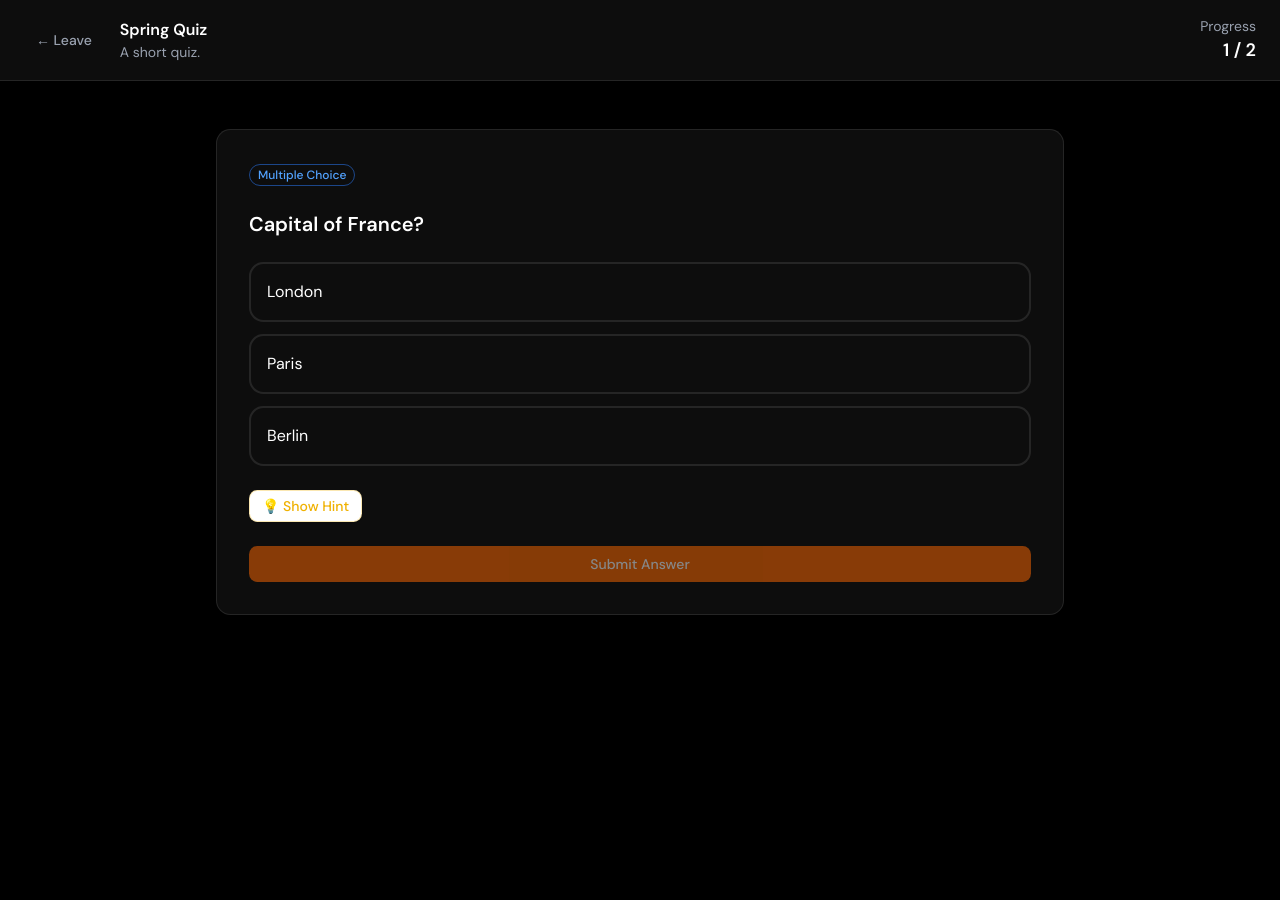
Test: PracticePage (ASK-192) › walks the full happy path: start -> submit -> complete
expect the heading "Capital of France?" is shown: met, box [249,211,424,237]
expect the text "1 / 2" is shown: met, box [1223,38,1256,62]
Click the button "Paris". click: (285, 364)
box: [249,334,1031,394]
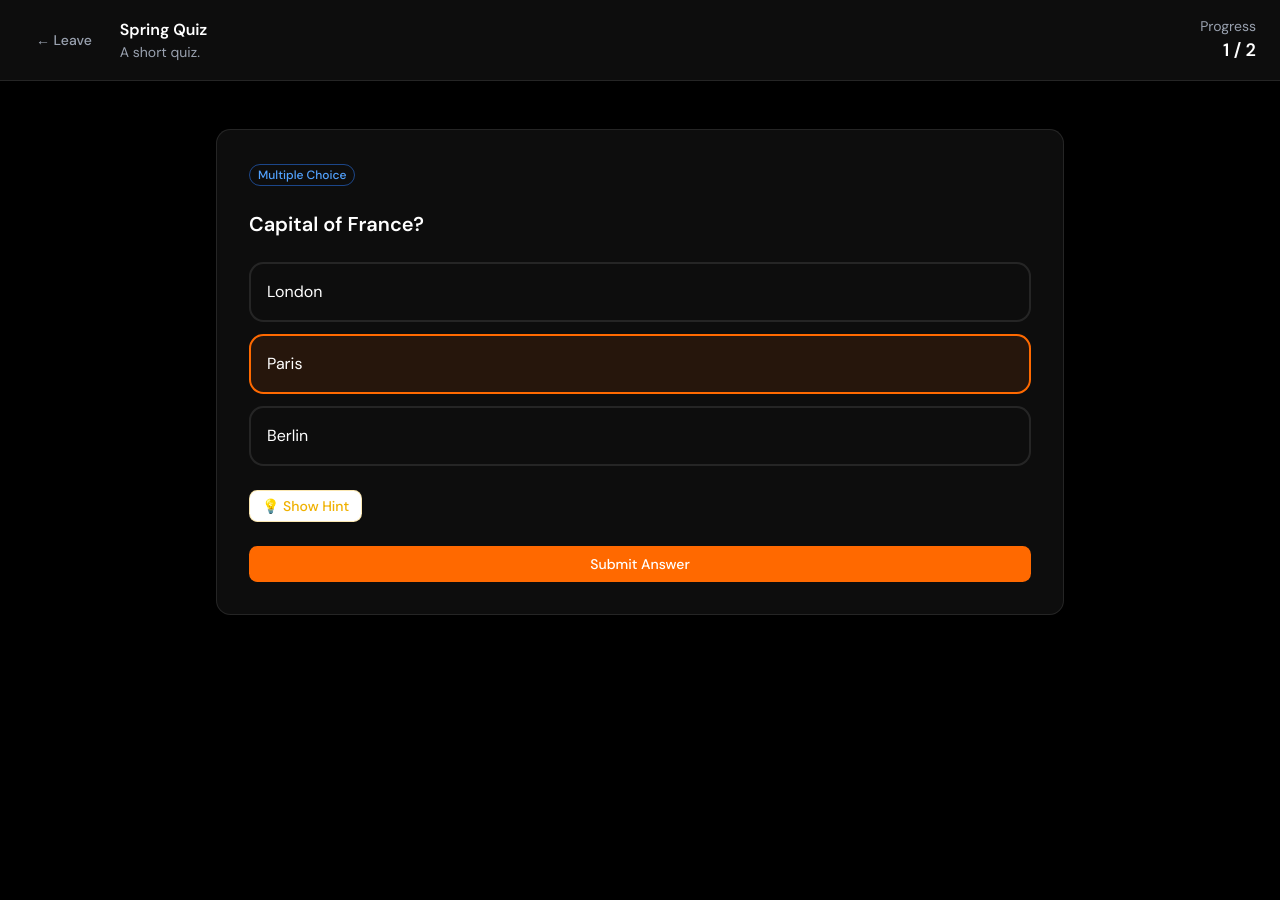
Click the button "Submit Answer". click: (640, 564)
box: [249,546,1031,582]
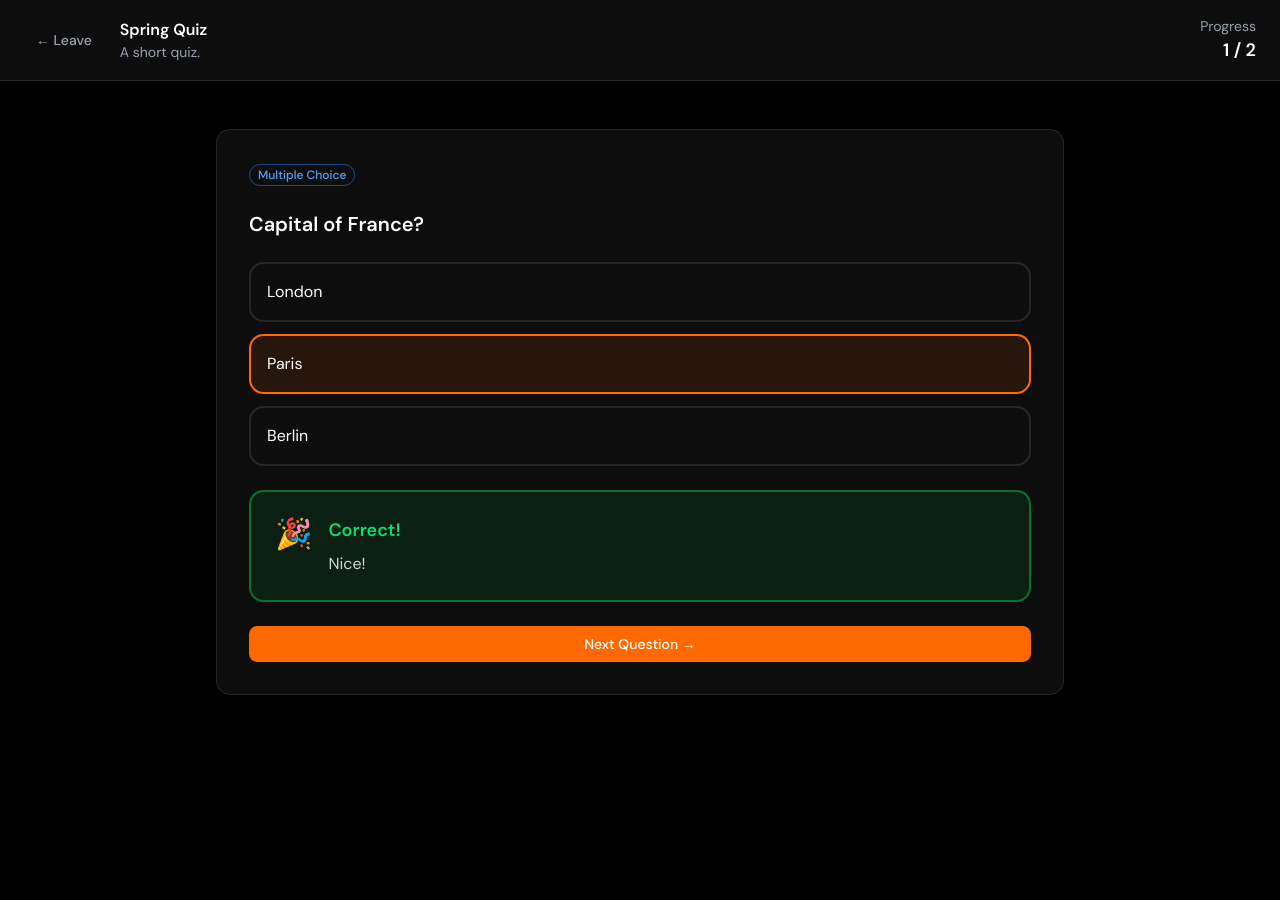
expect the heading "Correct!" is shown: met, box [328,516,401,544]
Click the button "Next Question →". click: (640, 644)
box: [249,626,1031,662]
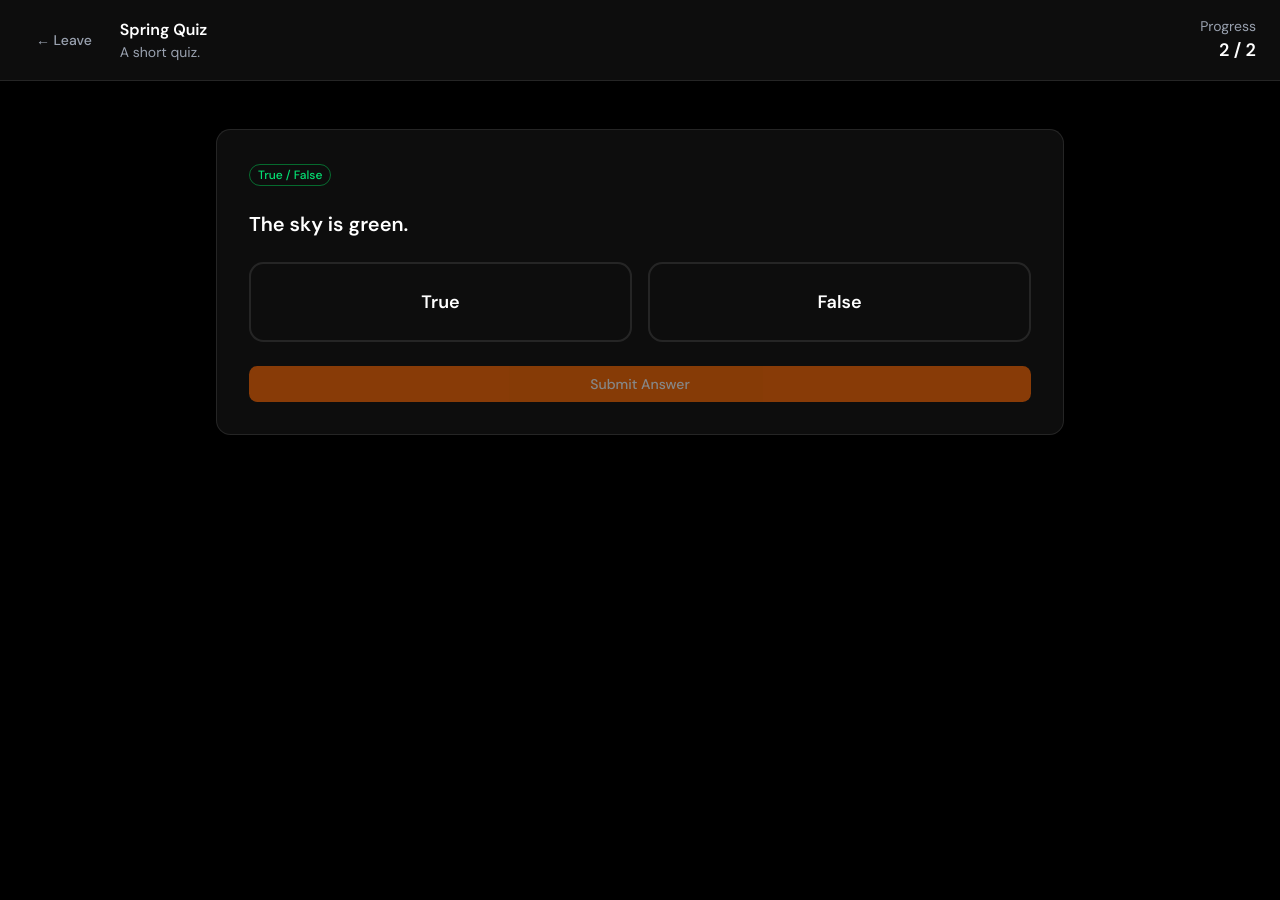
expect the heading "The sky is green." is shown: met, box [249,211,408,237]
Click the button "False". click: (840, 302)
box: [648,262,1031,342]
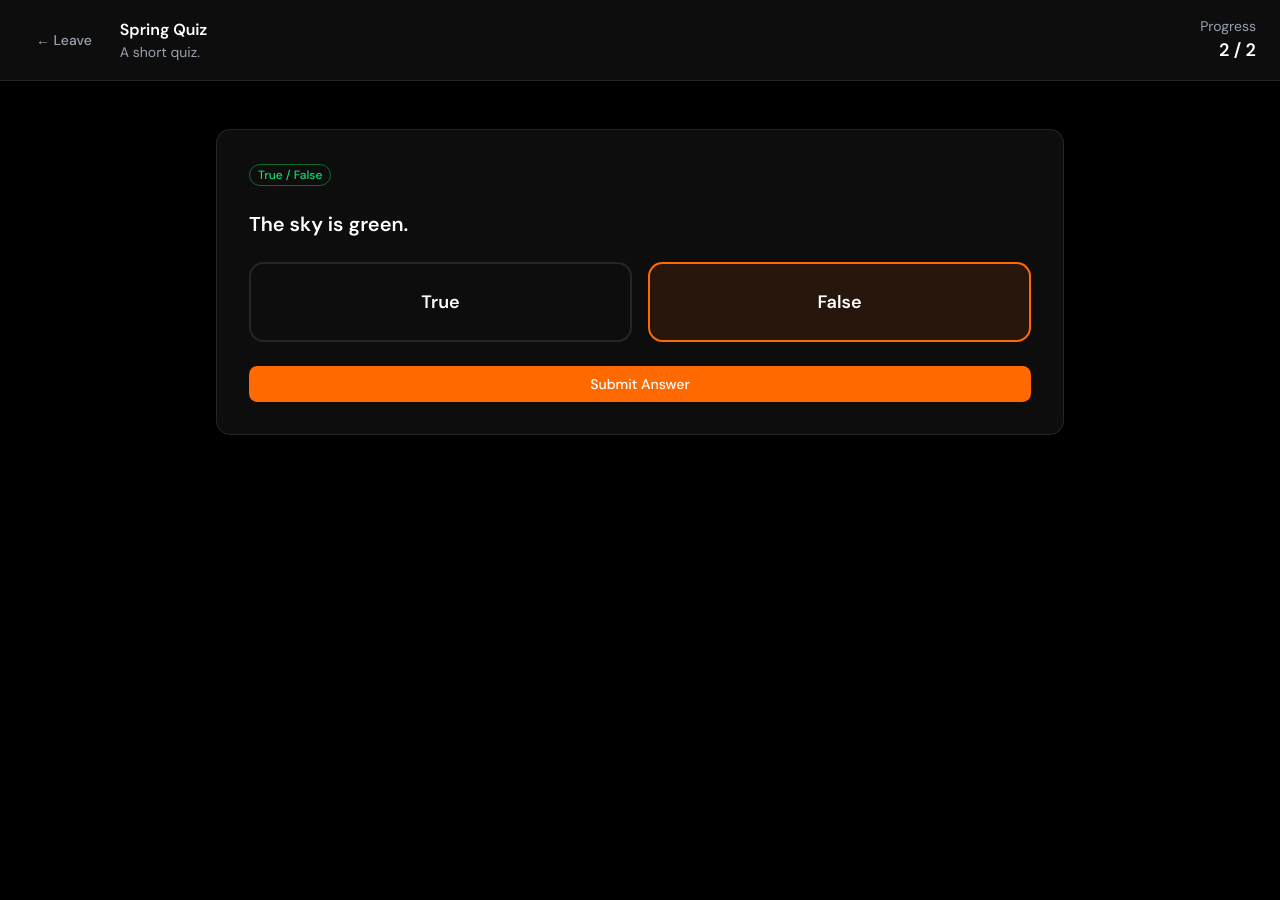
Click the button "Submit Answer". click: (640, 384)
box: [249,366,1031,402]
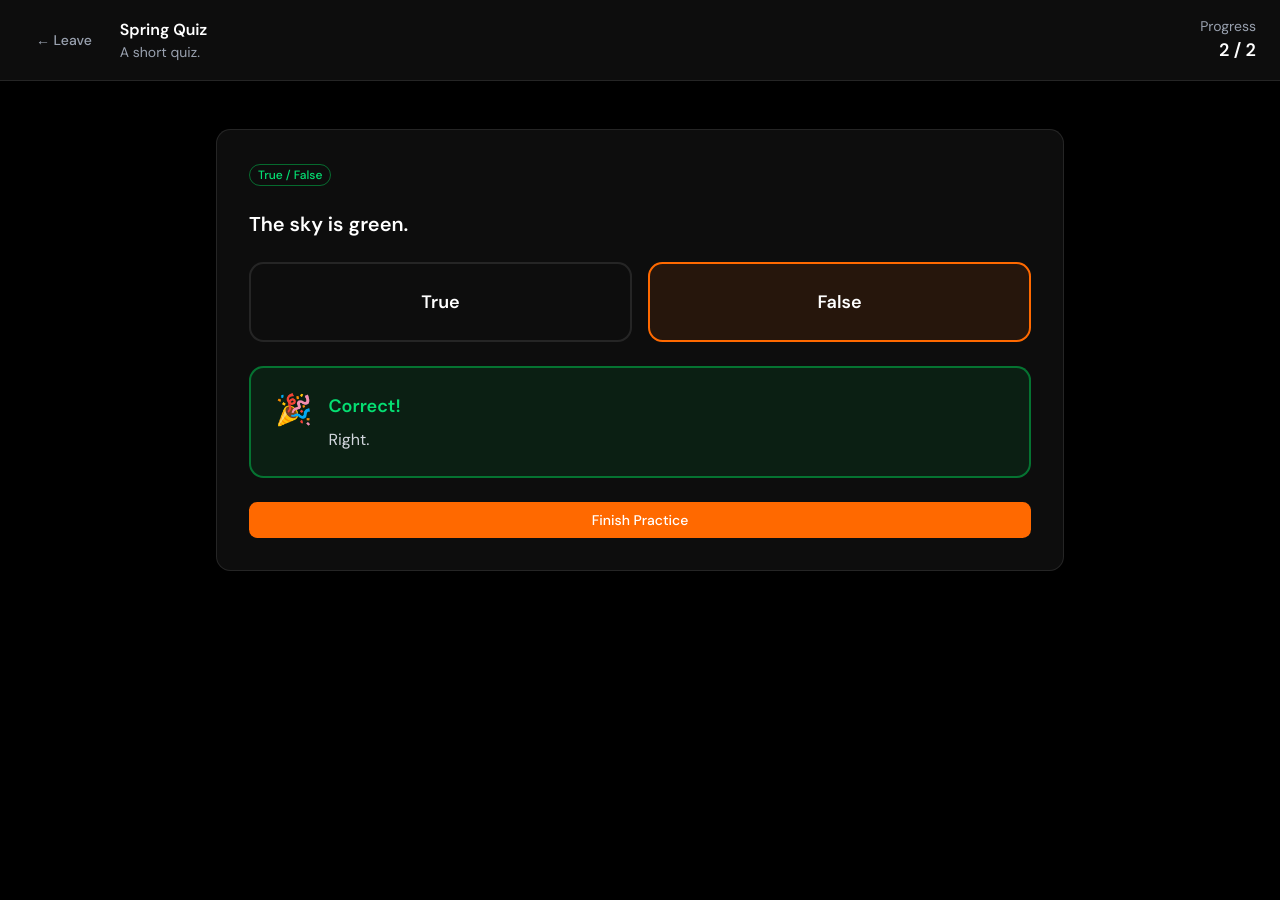
Click the button "Finish Practice". click: (640, 520)
box: [249,502,1031,538]
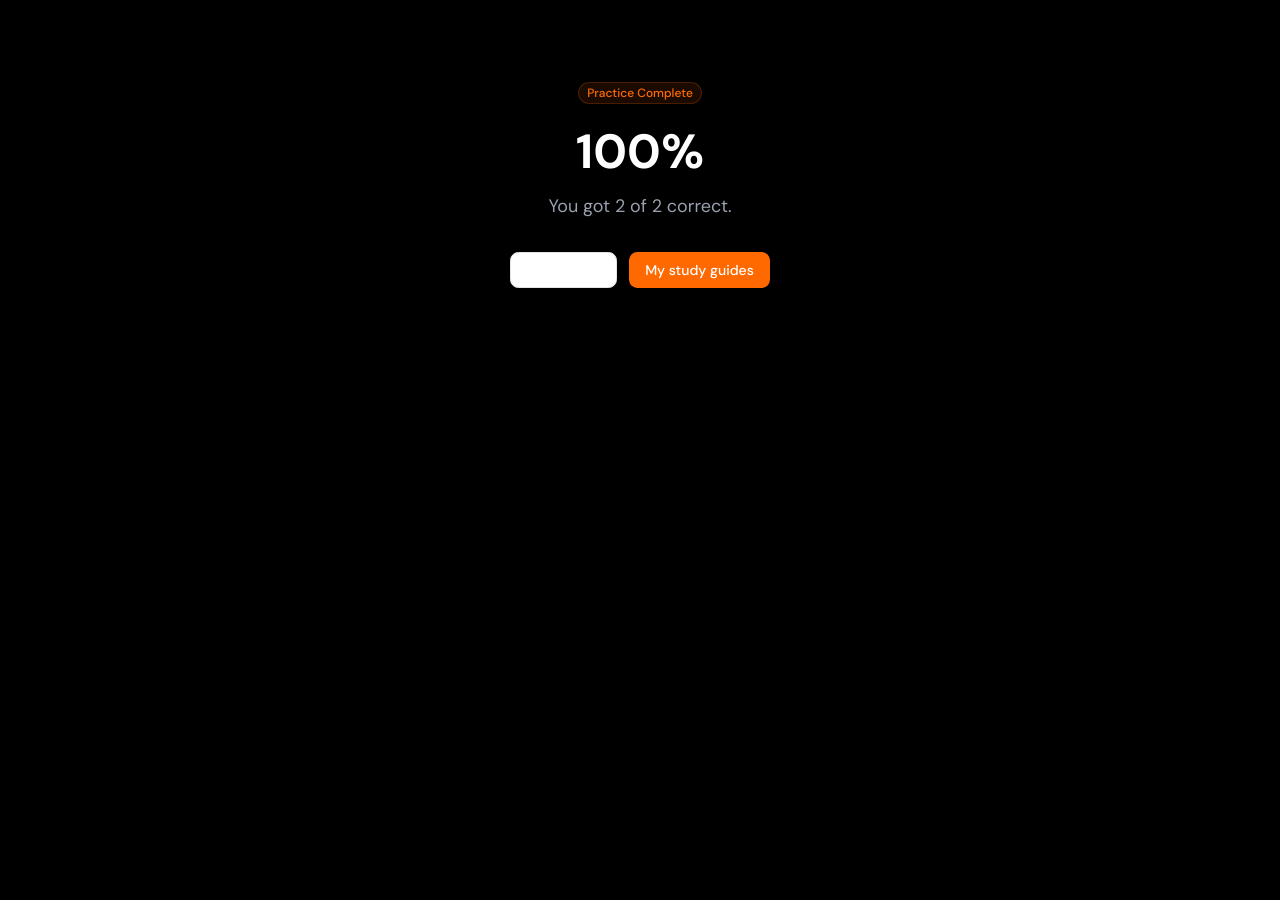
expect the text "Practice Complete" is shown: met, box [578,82,702,104]
expect the heading "100%" is shown: met, box [576,120,704,183]
